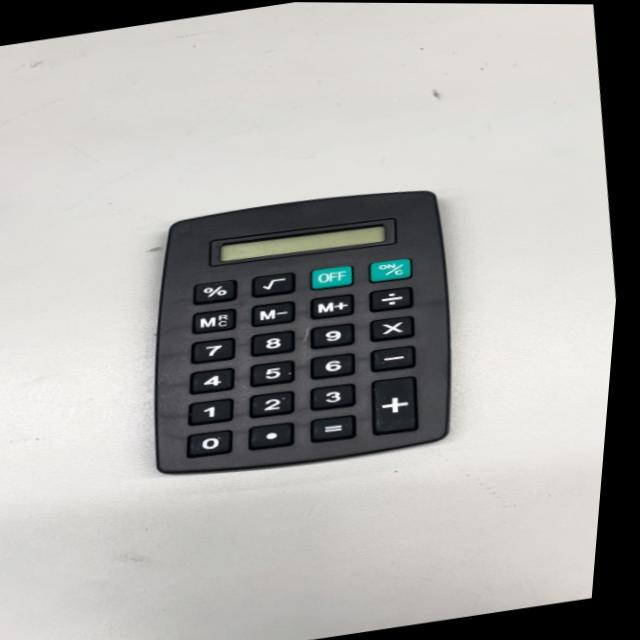calculator: (114, 172, 485, 496)
